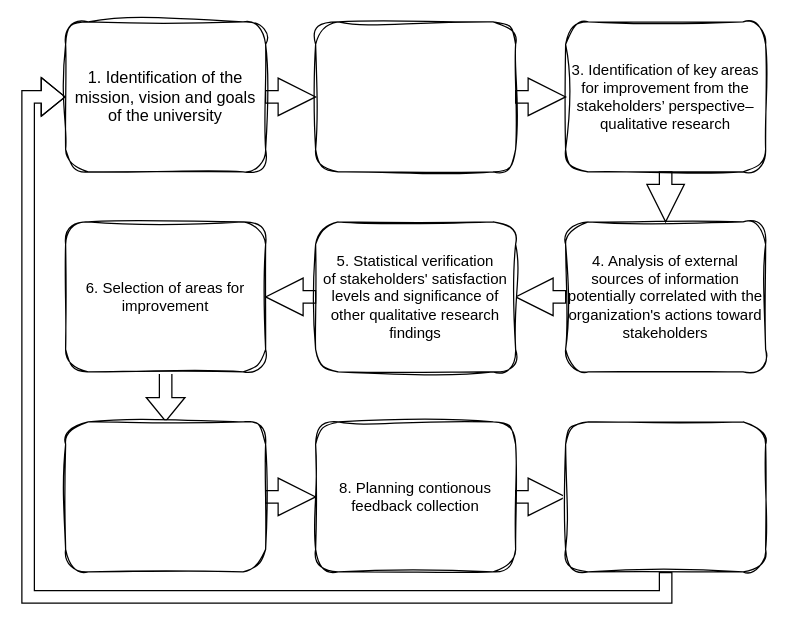
This 788x625 diagram has some shape labels left out. Each missing label, with the centre of its shape:
"2. Identyfication of key stakeholders" goes at (415,96).
"7. Implementation of changes to achieve improvements in selected areas" goes at (165,496).
"9. Continous improvement" goes at (665,496).
